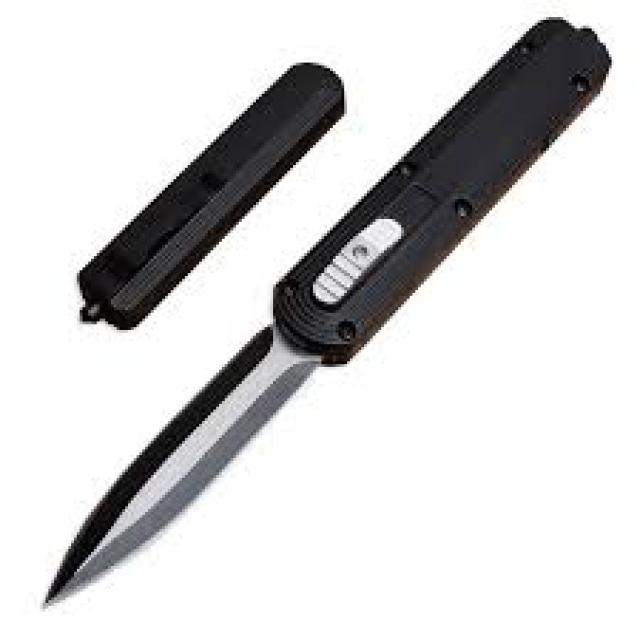knives: (37, 11, 617, 612)
